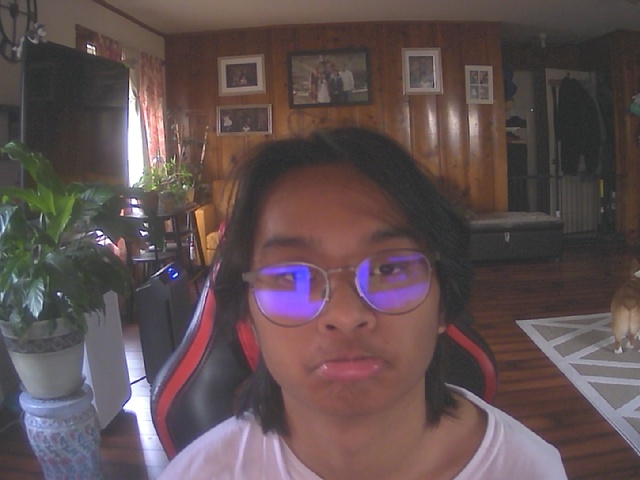sad: (241, 141, 454, 421)
